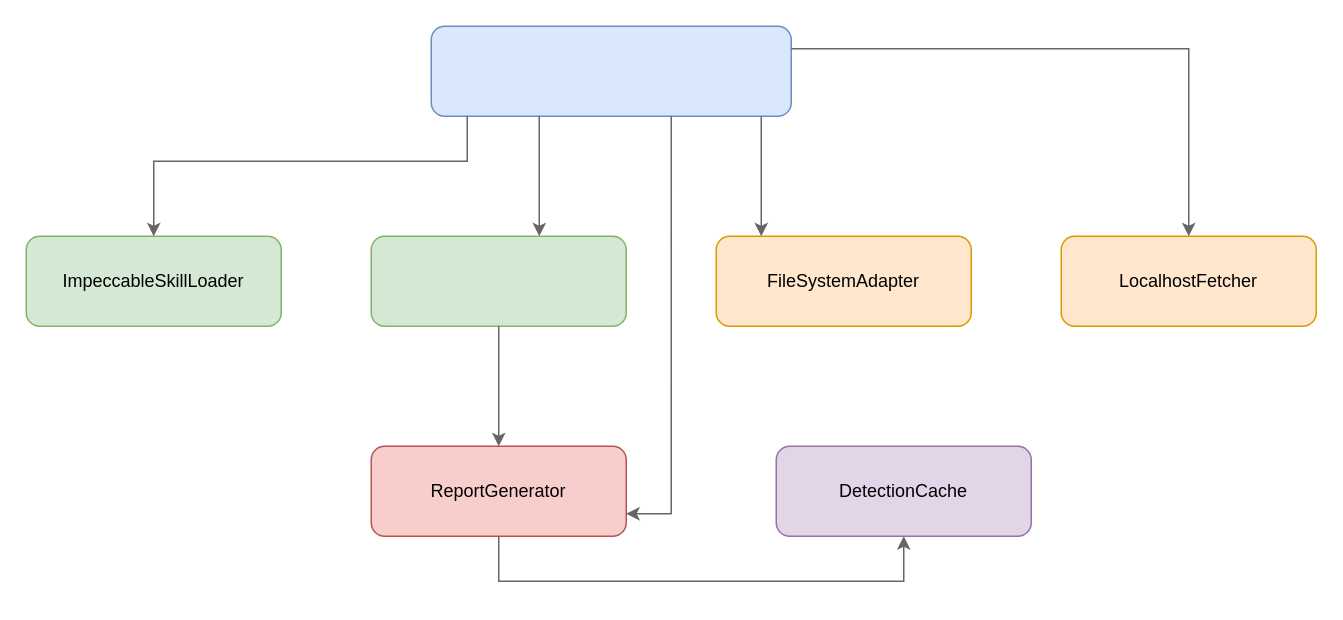
This 1343x620 diagram has some shape labels left out. Each missing label, with the centre of its shape:
ImpeccableIntegrationService: pixel 610 70
WasmDetectorRuntime: pixel 498 280
